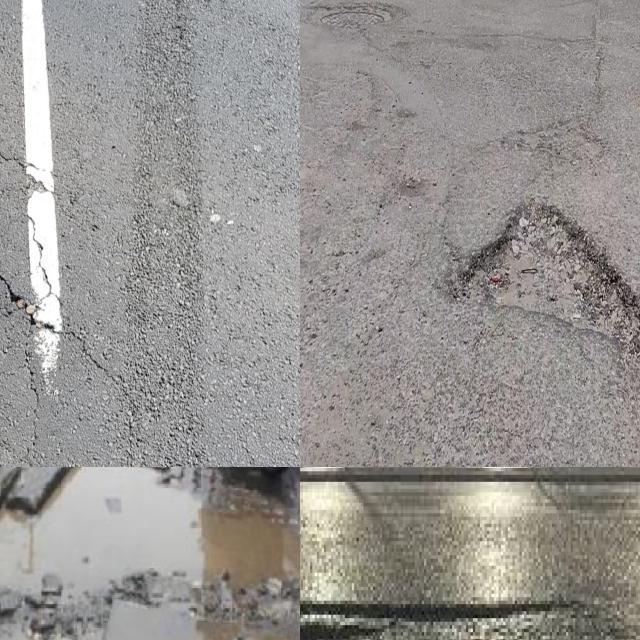Pothole: (0, 467, 300, 589), (461, 199, 640, 346), (300, 626, 381, 640)
